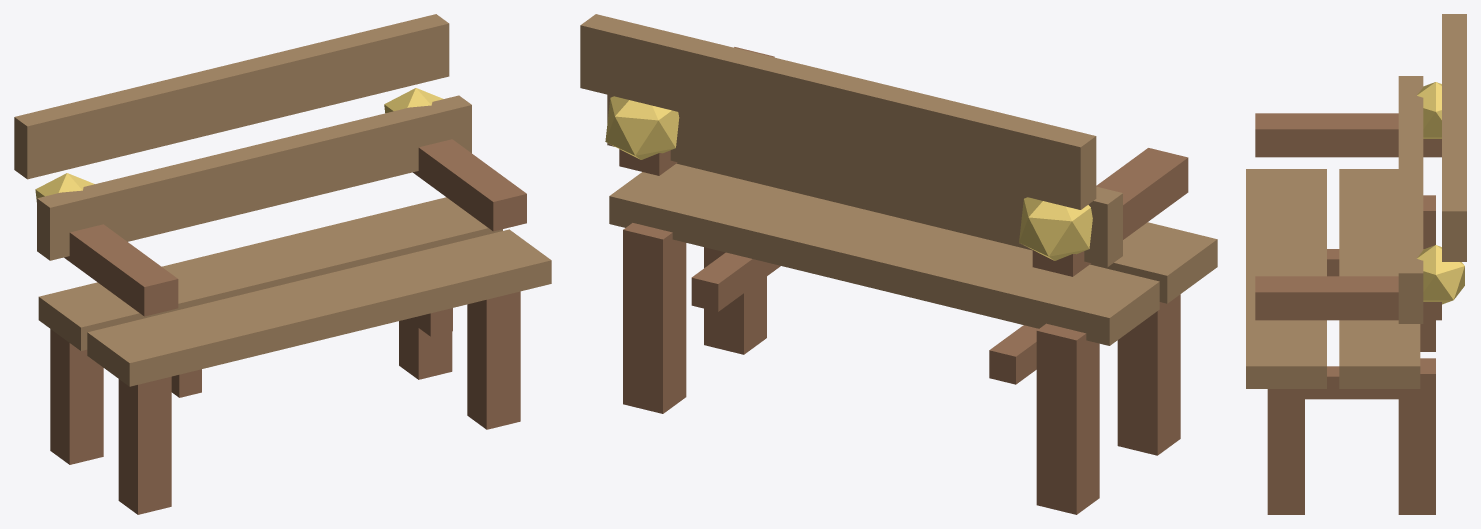
The model's file is bench_ornate.glb.
3 views of the same model, side by side, from view 1: azimuth 30°, elevation 25°; view 2: azimuth 150°, elevation 25°; view 3: azimuth 270°, elevation 25° (orthographic). The views are drawn at different scales.
Visible parts, largest first — view 1: back_1, seat_0, back_0, seat_1, leg_0_0, leg_1_0, leg_0_1, arm_0.004, arm_1.004, leg_1_1, brace_1, finial_0 (+2 smaller); view 2: back_1, seat_1, back_0, leg_0_1, leg_1_1, leg_0_0, seat_0, arm_0.004, finial_0, finial_1, leg_1_0, brace_1 (+2 smaller); view 3: seat_0, seat_1, arm_0.004, arm_1.004, back_0, back_1, leg_1_1, leg_1_0, finial_1, brace_1, leg_0_1, finial_0 (+1 smaller).
Part boxes in pixels (x1,y1,x2,y2): back_1: [14, 14, 449, 179]; seat_0: [87, 229, 551, 386]; back_0: [37, 95, 471, 260]; seat_1: [38, 197, 502, 350]; leg_0_0: [118, 376, 171, 514]; leg_1_0: [467, 291, 520, 429]; leg_0_1: [50, 329, 103, 464]; arm_0.004: [64, 224, 178, 316]; arm_1.004: [413, 139, 526, 231]; leg_1_1: [399, 319, 452, 379]; brace_1: [407, 308, 452, 336]; finial_0: [35, 173, 94, 201]; back_1: [580, 14, 1096, 209]; seat_1: [609, 163, 1159, 345]; back_0: [607, 94, 1122, 267]; leg_0_1: [1036, 323, 1099, 514]; leg_1_1: [623, 223, 686, 413]; leg_0_0: [1117, 294, 1180, 455]; seat_0: [676, 162, 1217, 303]; arm_0.004: [1032, 148, 1188, 276]; finial_0: [1019, 197, 1092, 260]; finial_1: [605, 96, 679, 159]; leg_1_0: [704, 247, 766, 354]; brace_1: [691, 252, 780, 311]; seat_0: [1246, 169, 1326, 388]; seat_1: [1339, 169, 1420, 388]; arm_0.004: [1255, 113, 1441, 157]; arm_1.004: [1255, 276, 1441, 320]; back_0: [1398, 76, 1423, 323]; back_1: [1442, 14, 1466, 261]; leg_1_1: [1398, 358, 1435, 514]; leg_1_0: [1267, 389, 1304, 514]; finial_1: [1417, 245, 1464, 304]; brace_1: [1305, 366, 1398, 399]; leg_0_1: [1420, 195, 1435, 351]; finial_0: [1417, 82, 1441, 138].
Size of the model in its own units: 1.5 by 1.11 by 0.71.
